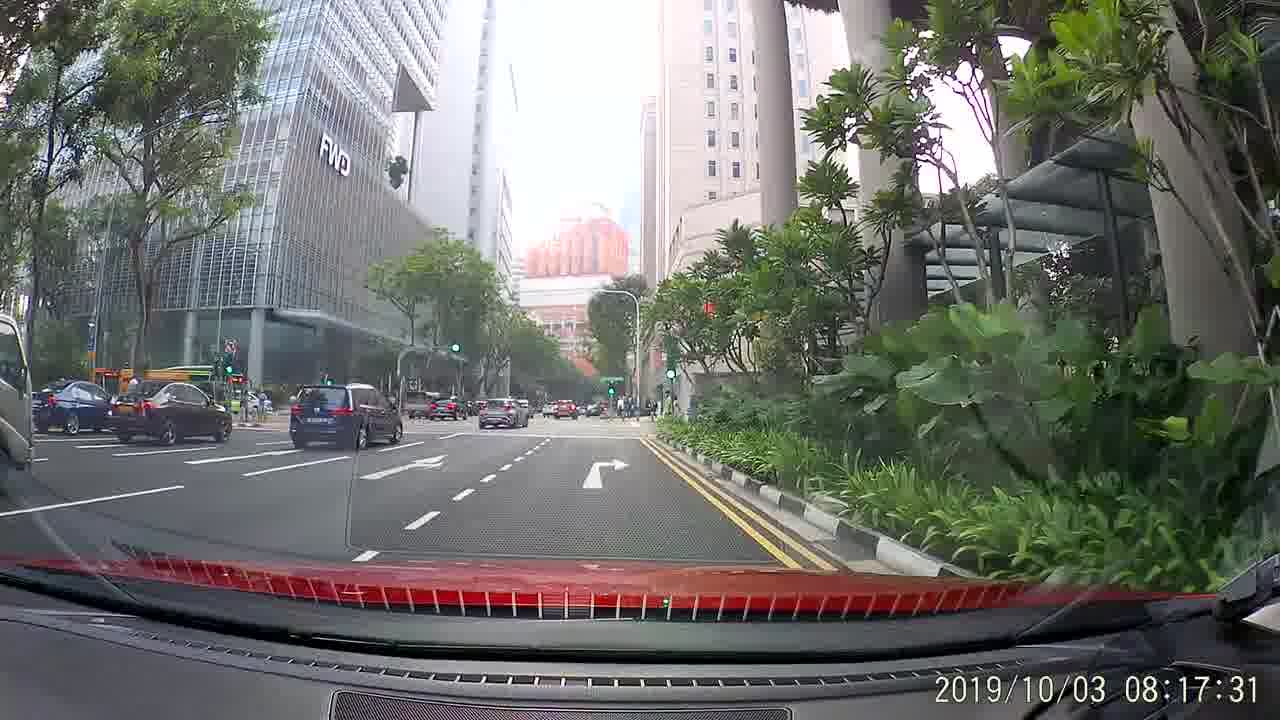car: (108, 378, 235, 448), (287, 377, 407, 450), (30, 377, 109, 437), (477, 395, 527, 428), (428, 394, 472, 421), (550, 396, 577, 421)
